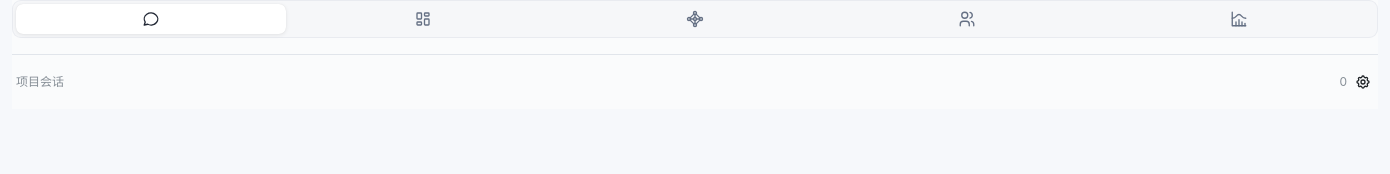
Test: Sidebar project catalog wiring › shows today summary models even when hourly series have no models
This screenshot has width=1390, height=174.
Hover over the link named "统计" at x=1239, y=19, box [1230,10,1248,28]
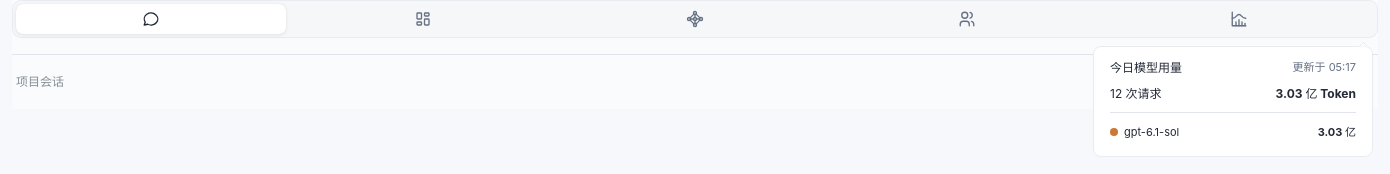
Expected: the text "3.03 亿 Token" is shown, [1276,85,1356,104]
Expected: the text "gpt-6.1-sol" is shown, [1124,124,1179,141]
